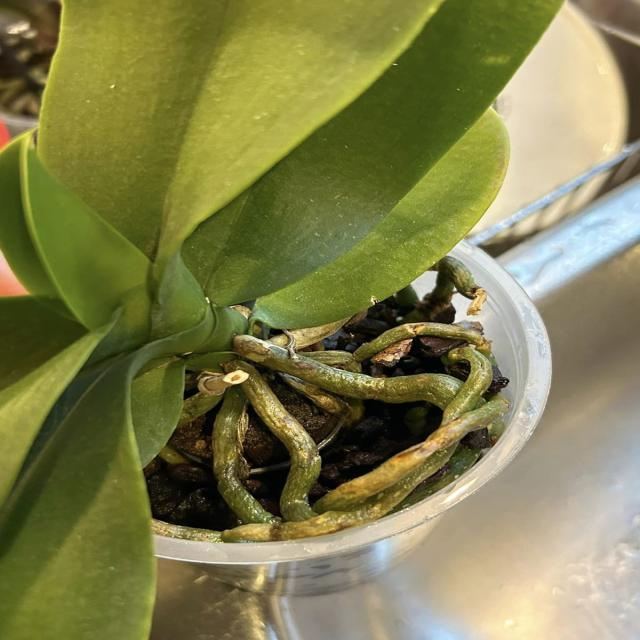leaf: (25, 0, 436, 330), (181, 0, 559, 305), (258, 110, 508, 328), (1, 345, 159, 639), (0, 295, 105, 506)
pot: (93, 201, 567, 601)
root: (219, 347, 506, 542), (235, 336, 491, 412), (321, 409, 500, 510), (225, 361, 321, 521), (213, 389, 274, 524), (353, 321, 490, 361), (280, 318, 351, 350)
